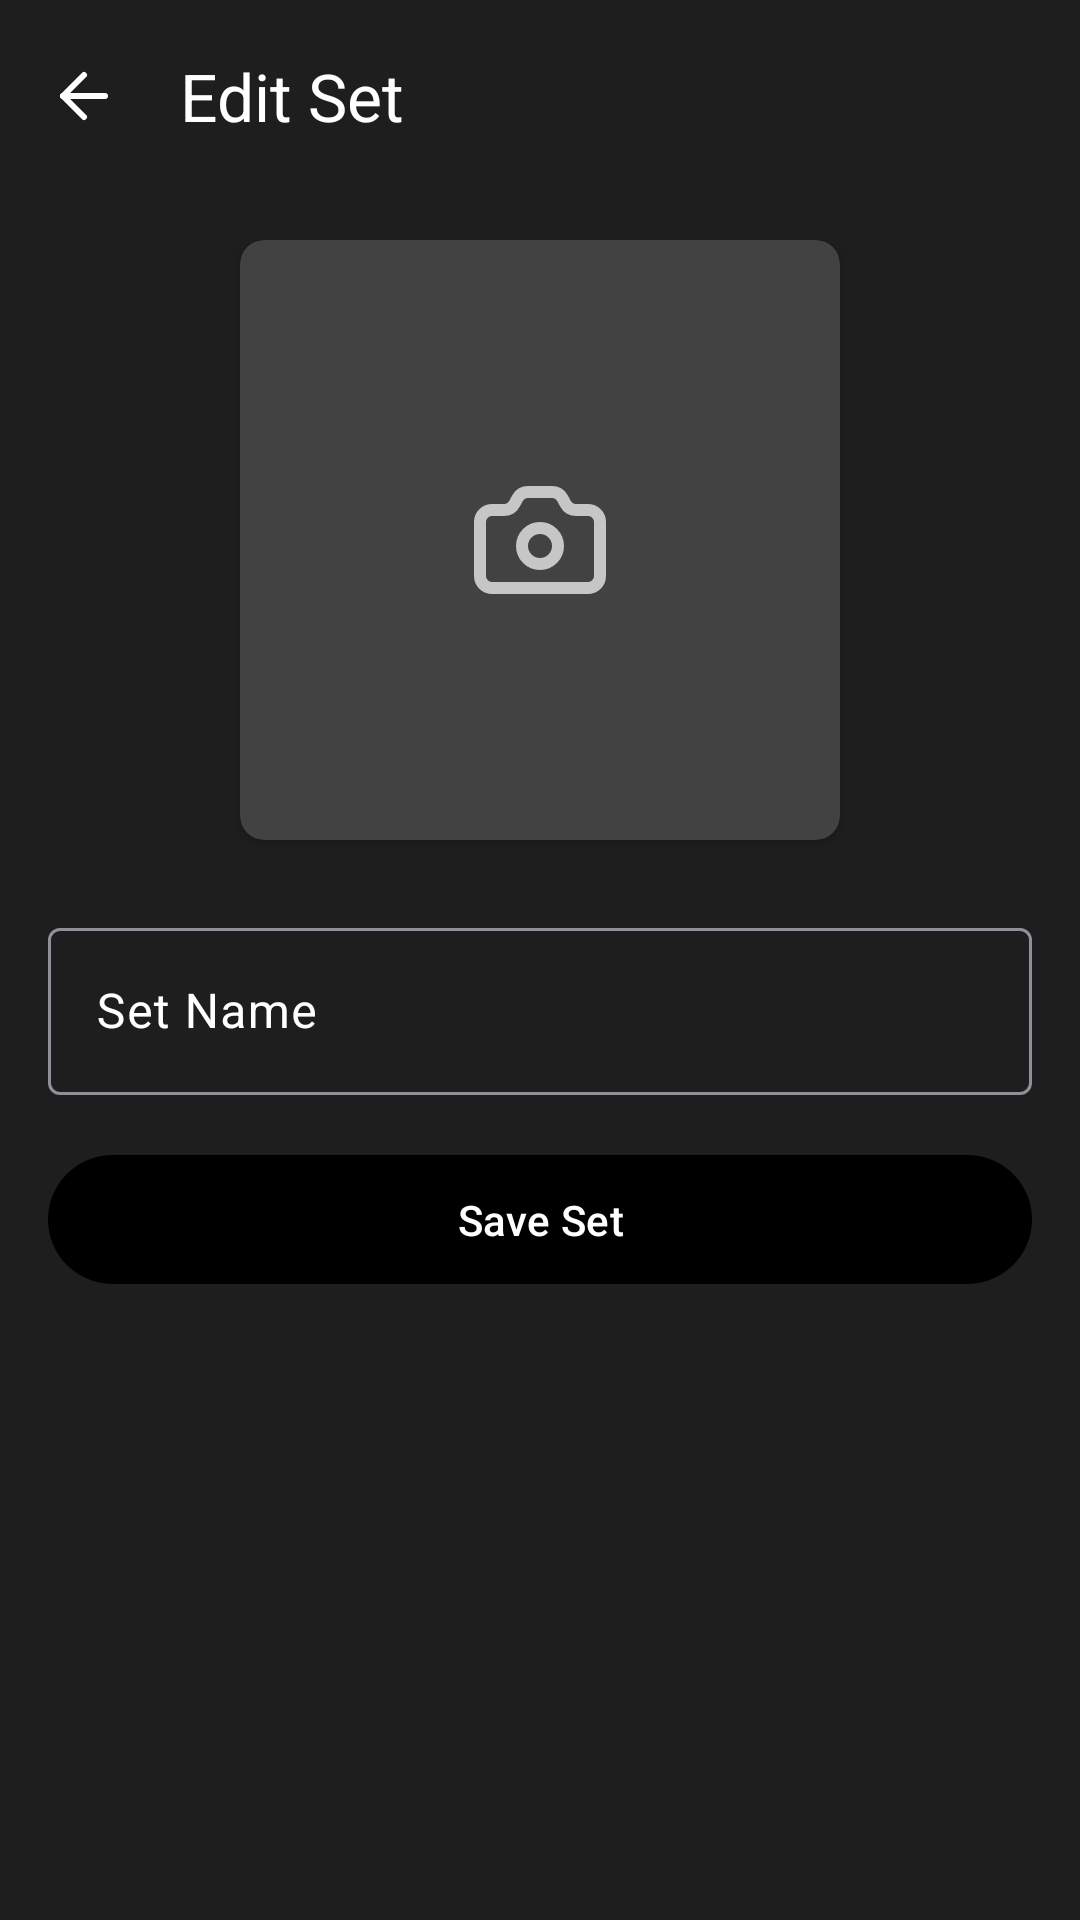

Icon click points for this 1080w x 1920h phone screenshot, format (x,y):
Tap to change cover: (540,540)
